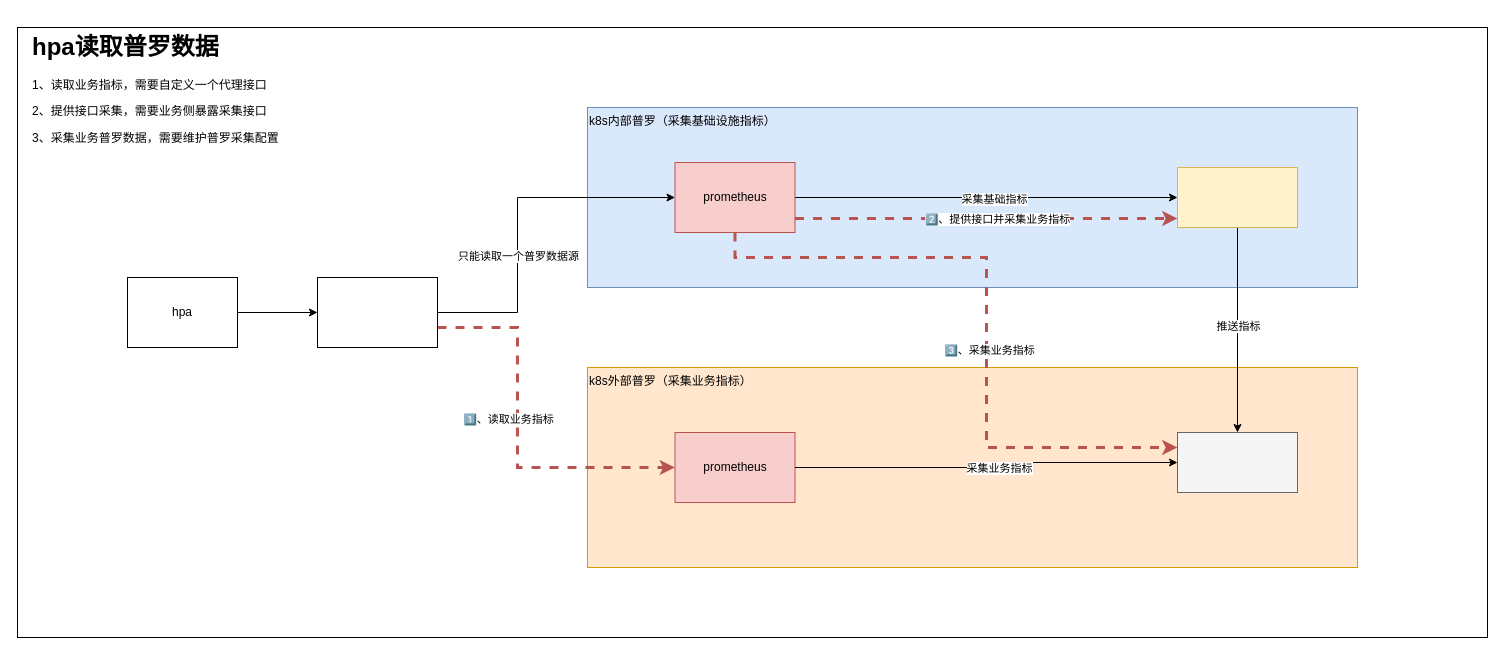
This 1505x655 diagram has some shape labels left out. The shapes that lost their labels are listed below. From the top down, each one's centre as x and y in pixels, then its label:
the point at 1237,197: Pod
the point at 377,312: prometheus-adapte
the point at 1237,462: push gateway
